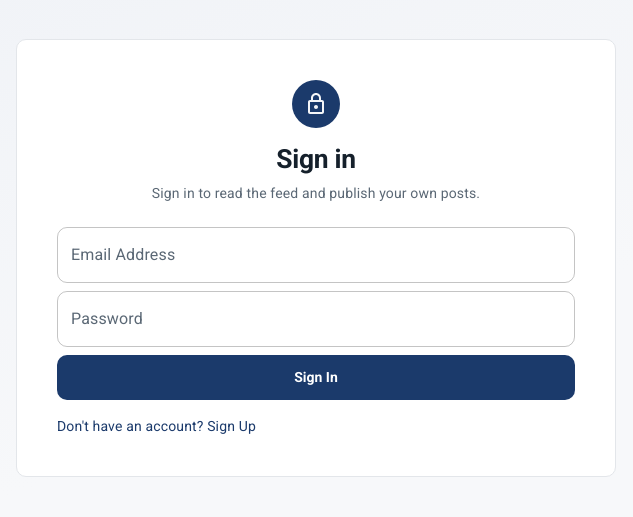
Test: <Signin /> › reports missing and invalid values
Click the button "Sign In".
click(316, 377)  # box [57, 355, 575, 400]
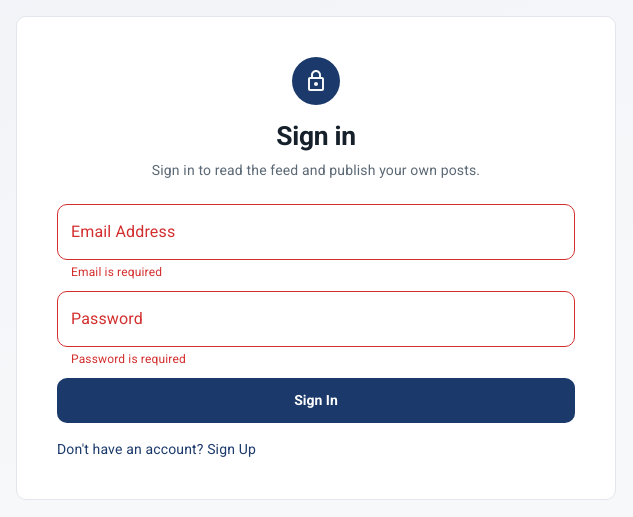
Expected: the text "Email is required" is shown, [71, 265, 162, 279]
Expected: the text "Password is required" is shown, [71, 352, 186, 366]
Type "not-an-email" into the field labelled "Email Address".
click(316, 232); type("not-an-email")  # box [57, 204, 575, 260]
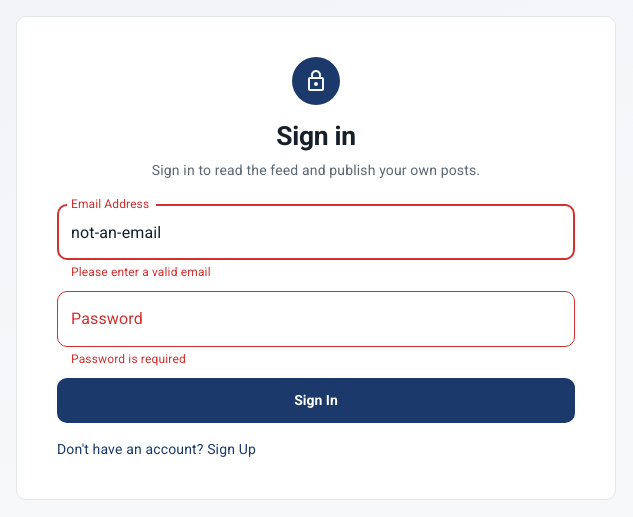
Expected: the text "Please enter a valid email" is shown, [71, 265, 211, 279]
